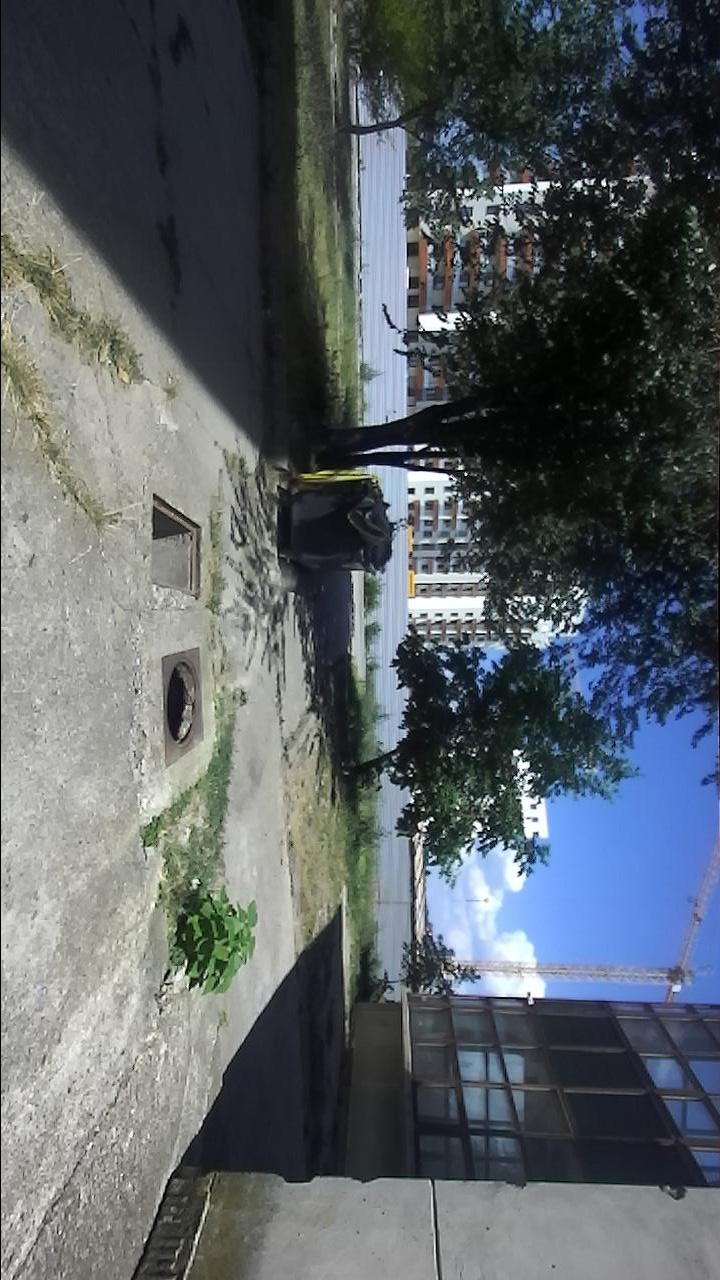drain: (147, 490, 204, 601), (159, 659, 200, 749)
